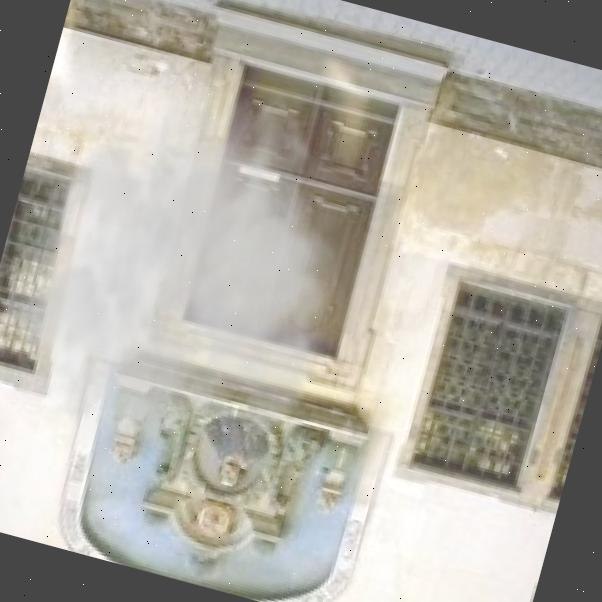smoke: (0, 36, 411, 515)
